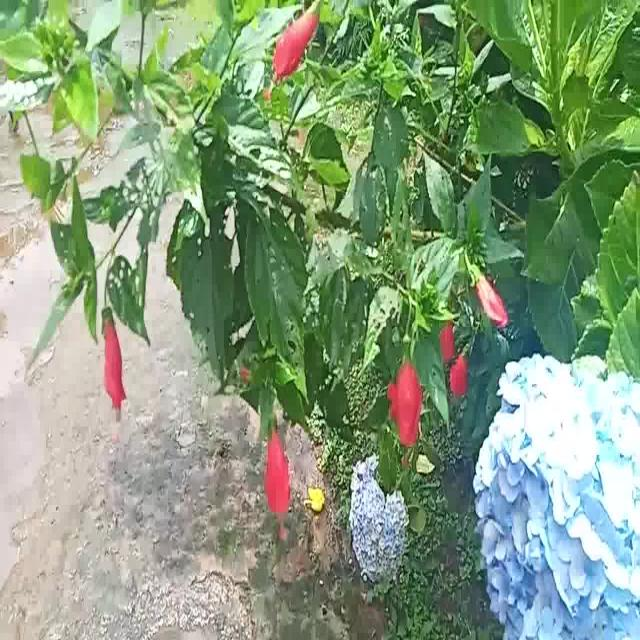Flower: (476, 349, 640, 640), (349, 451, 411, 586), (96, 303, 134, 424), (272, 10, 328, 75), (262, 413, 294, 525), (471, 259, 509, 341), (394, 351, 425, 451)
